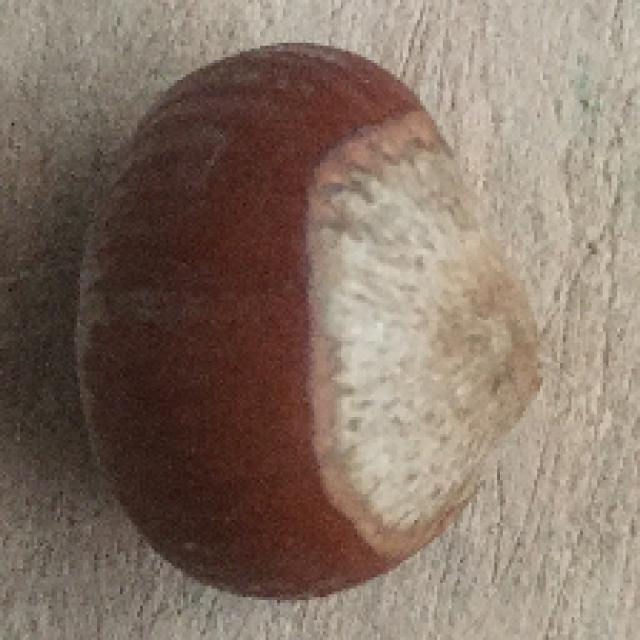qualityHazelnut: (75, 25, 537, 601)
